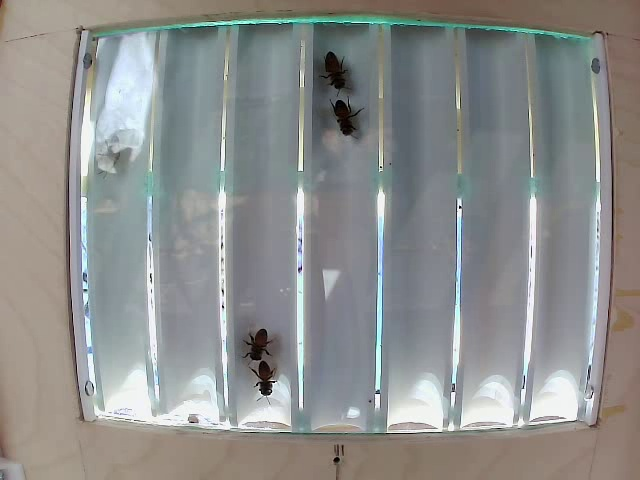bee: (331, 86, 366, 152), (319, 51, 366, 94), (244, 323, 279, 367), (245, 361, 285, 397)
